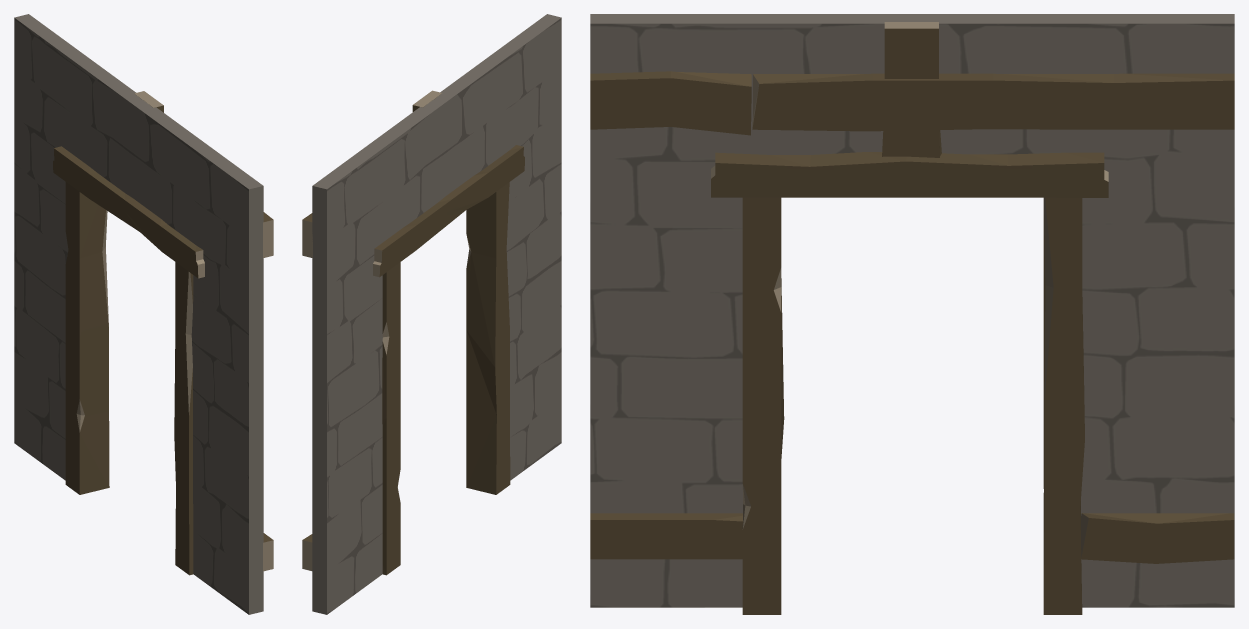
File: SM_Polygonal_Stone_Doorframe.fbx
The picture shows the model from 3 angles, left to right: view 1: azimuth 30°, elevation 25°; view 2: azimuth 150°, elevation 25°; view 3: azimuth 270°, elevation 25°; orthographic projection. The views are drawn at different scales.
Visible parts, largest first — view 1: SM_Polygonal_Stone_Doorframe_LOD0; view 2: SM_Polygonal_Stone_Doorframe_LOD0; view 3: SM_Polygonal_Stone_Doorframe_LOD0.
Boxes of the visible parts, x1,y1,x2,y2 form: SM_Polygonal_Stone_Doorframe_LOD0: (14, 14, 273, 614); SM_Polygonal_Stone_Doorframe_LOD0: (302, 14, 561, 614); SM_Polygonal_Stone_Doorframe_LOD0: (590, 14, 1234, 614).
Size of the model in its own units: 27.82 by 300 by 300.
Materials: 1 (1 with a texture image).
